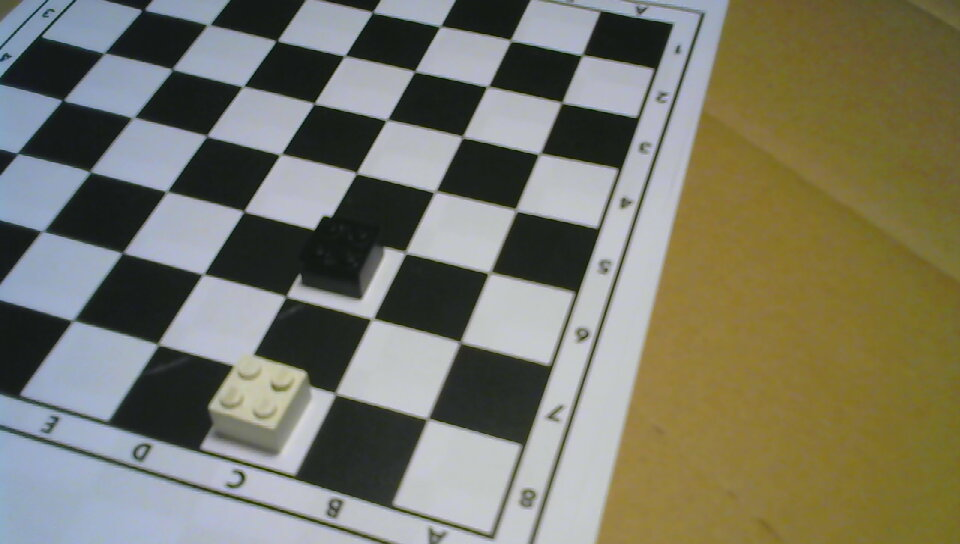bp: (298, 215, 385, 300)
wp: (204, 352, 311, 455)
